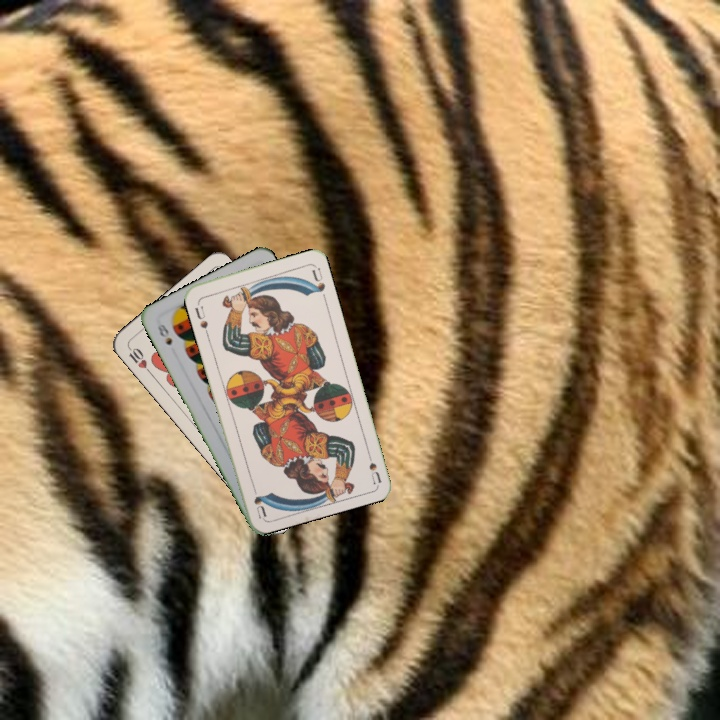H10: (124, 343, 154, 377)
S8: (153, 320, 175, 348)
SU: (362, 445, 384, 485), (191, 302, 210, 331)
